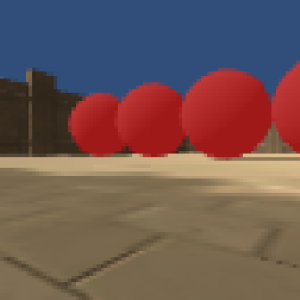badGoal: (179, 64, 272, 167), (116, 79, 186, 168), (68, 88, 122, 164), (268, 50, 300, 168)
